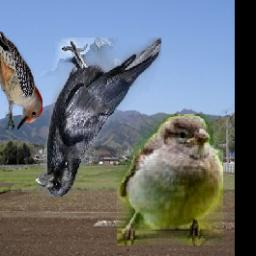Crow: (36, 38, 161, 196)
Sparrow: (117, 114, 223, 246)
Woodpecker: (0, 31, 43, 130)
